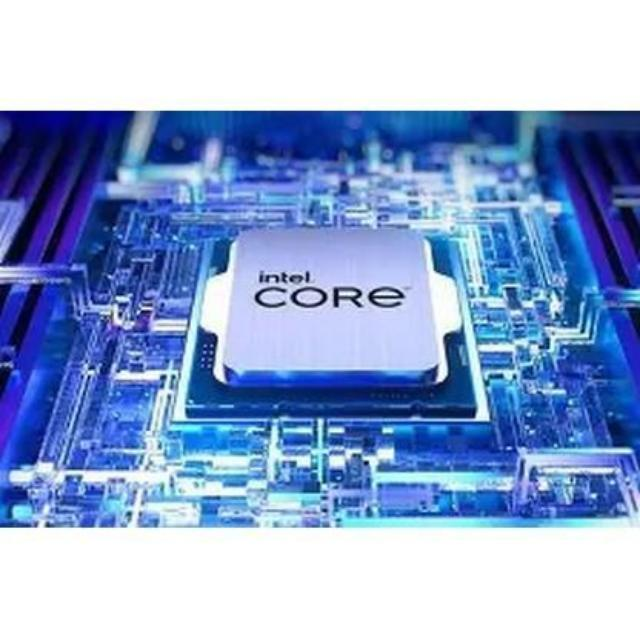CPU: (212, 241, 454, 404)
